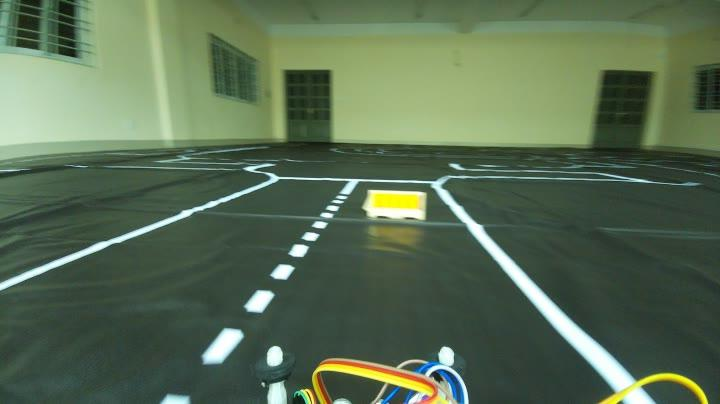roadblock: (356, 184, 437, 232)
